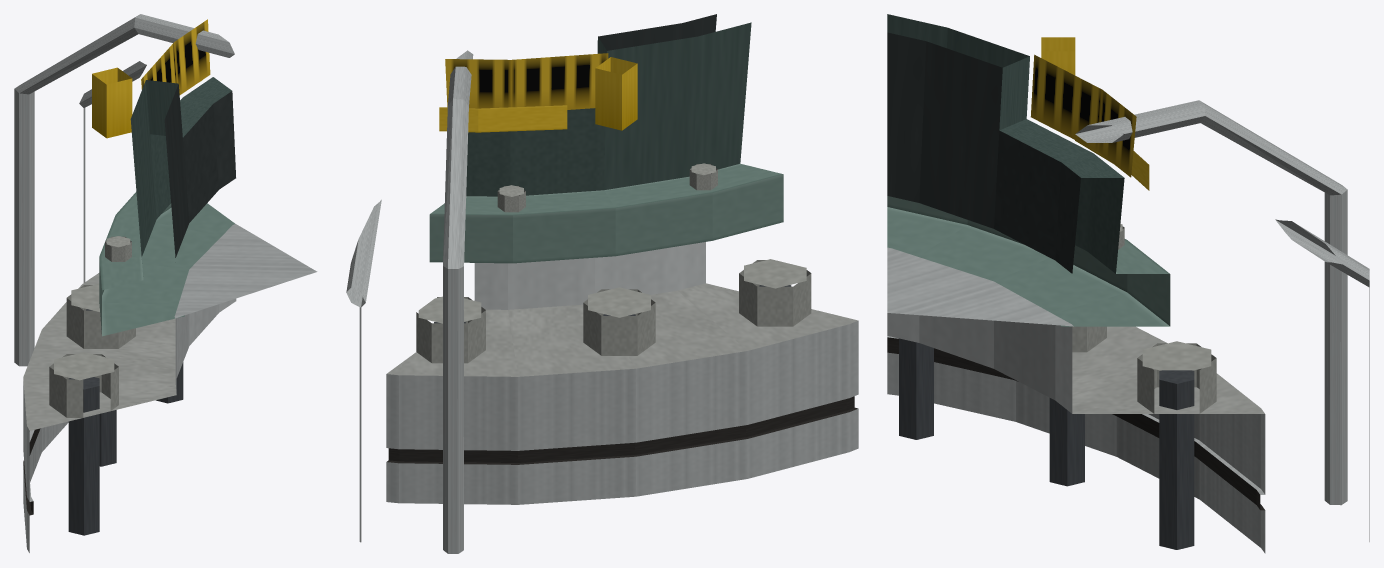
File: cell_81.obj
3 renders of one model, left to right at view 1: azimuth 30°, elevation 25°; view 2: azimuth 150°, elevation 25°; view 3: azimuth 270°, elevation 25°, orthographic. The views are drawn at different scales.
Size of the model in its own units: 0.7835 by 1 by 1.
